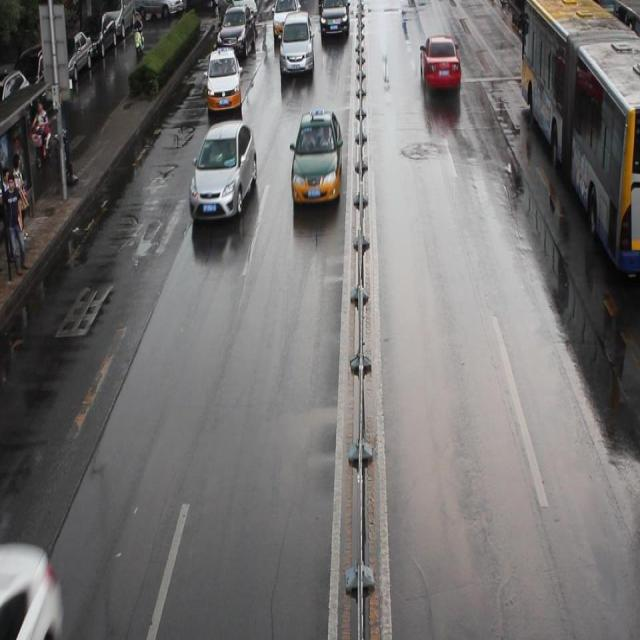car: (188, 120, 257, 219), (0, 541, 61, 640), (290, 110, 342, 203), (419, 34, 460, 92), (206, 49, 242, 112), (216, 1, 256, 55), (319, 1, 349, 36), (272, 2, 300, 34), (212, 1, 257, 20)
truck: (279, 13, 314, 76)
van: (520, 1, 640, 272)
